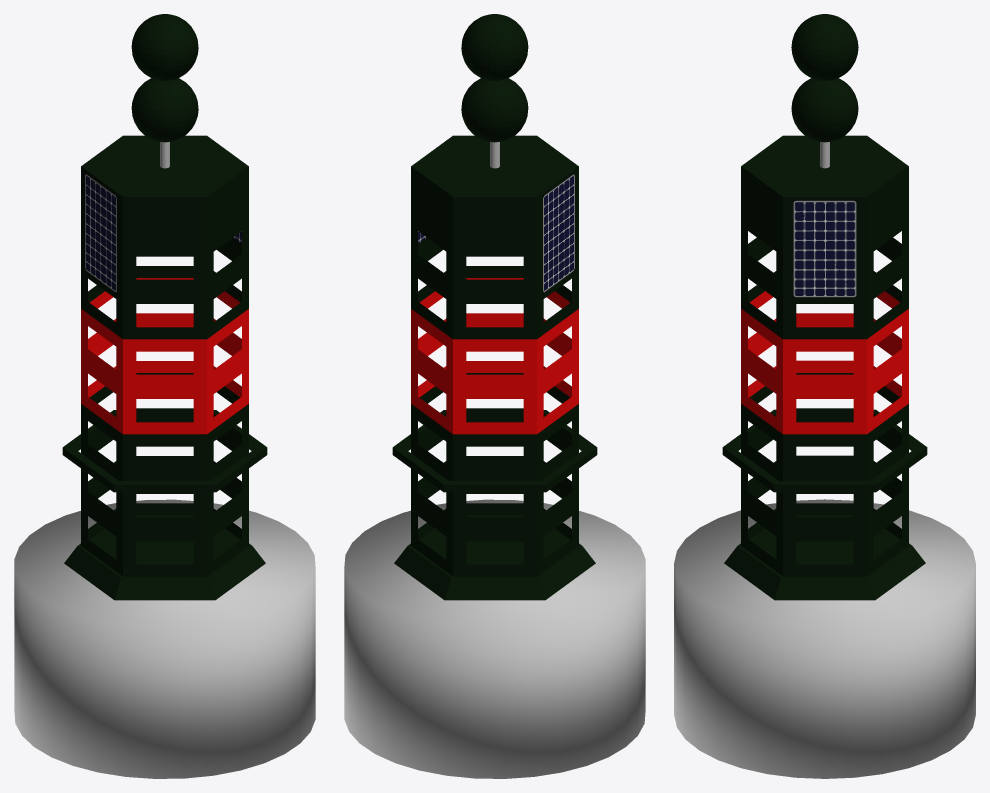
The model's file is Boy-Danger.gltf.
3 renders of one model, left to right at view 1: azimuth 30°, elevation 25°; view 2: azimuth 150°, elevation 25°; view 3: azimuth 270°, elevation 25°, orthographic.
Parts seen in each view (by area): view 1: Cylinder.013, Cylinder.012, Cylinder.014, Sphere 1, Sphere 2, Cylinder.015, Plane.007; view 2: Cylinder.013, Cylinder.012, Cylinder.014, Sphere 1, Sphere 2, Cylinder.015, Plane.007; view 3: Cylinder.013, Cylinder.012, Cylinder.014, Plane.006, Sphere 1, Sphere 2, Cylinder.015.
Boxes of the visible parts, left/top/right/bottom form: Cylinder.013: left=14, top=499, right=315, bottom=778; Cylinder.012: left=81, top=135, right=248, bottom=576; Cylinder.014: left=64, top=515, right=265, bottom=600; Sphere 1: left=131, top=14, right=198, bottom=80; Sphere 2: left=131, top=78, right=198, bottom=142; Cylinder.015: left=62, top=410, right=267, bottom=492; Plane.007: left=85, top=173, right=116, bottom=293; Cylinder.013: left=344, top=499, right=645, bottom=778; Cylinder.012: left=411, top=135, right=578, bottom=576; Cylinder.014: left=394, top=515, right=595, bottom=600; Sphere 1: left=461, top=14, right=528, bottom=80; Sphere 2: left=461, top=78, right=528, bottom=142; Cylinder.015: left=392, top=410, right=597, bottom=492; Plane.007: left=543, top=173, right=574, bottom=293; Cylinder.013: left=674, top=499, right=975, bottom=778; Cylinder.012: left=741, top=135, right=908, bottom=576; Cylinder.014: left=724, top=515, right=925, bottom=600; Plane.006: left=793, top=200, right=856, bottom=297; Sphere 1: left=791, top=14, right=858, bottom=80; Sphere 2: left=791, top=78, right=858, bottom=142; Cylinder.015: left=722, top=409, right=927, bottom=492.
Size of the model in its own units: 1.8 by 4.59 by 1.8.
Materials: 4 (1 with a texture image).
